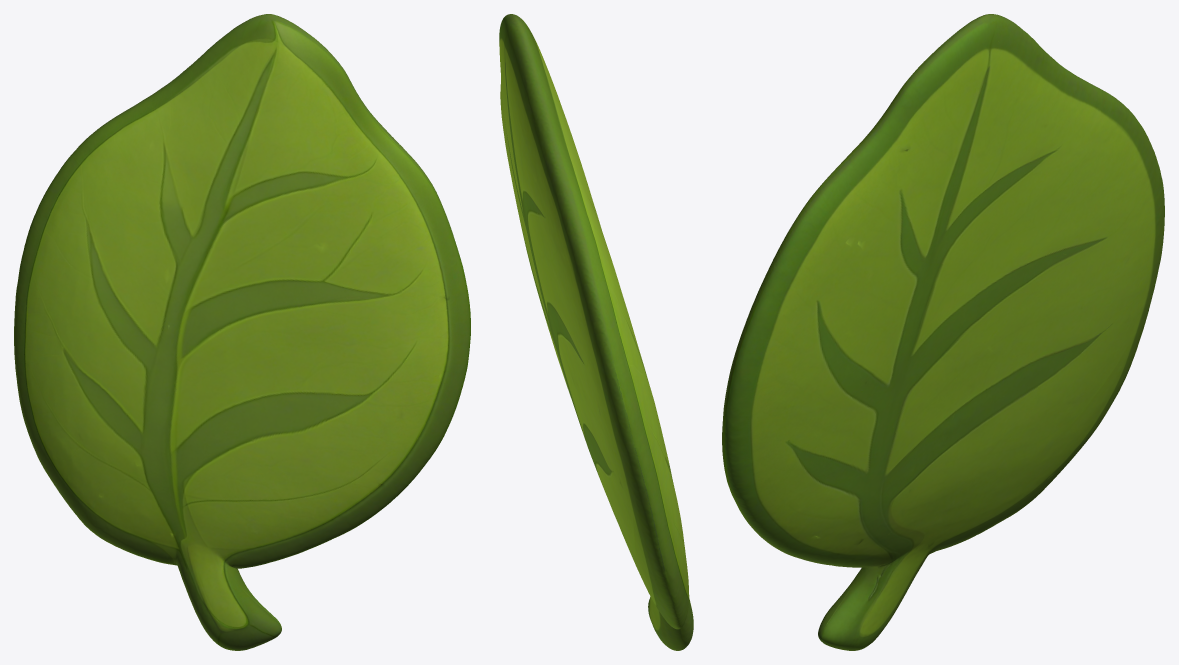
The model's file is leaf.glb.
The picture shows the model from 3 angles, left to right: view 1: azimuth 30°, elevation 25°; view 2: azimuth 150°, elevation 25°; view 3: azimuth 270°, elevation 25°; orthographic projection. The views are drawn at different scales.
Bounding box in the file's own units: 1.05 × 2 × 1.18.
1 material, 1 textured.
